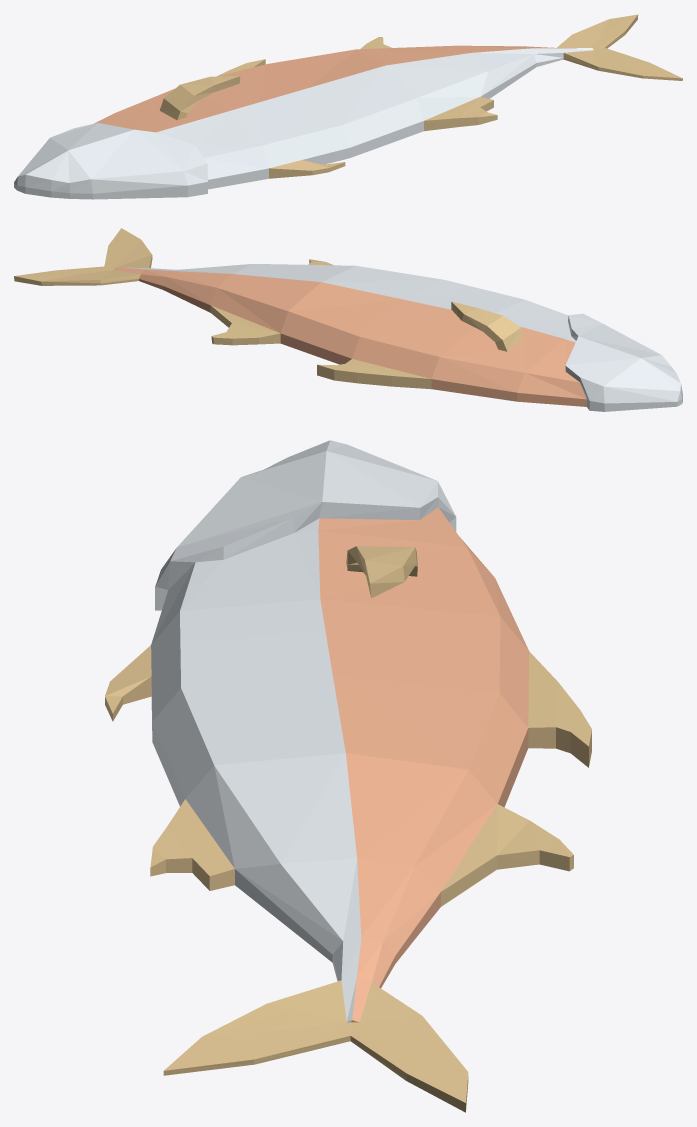
Rendered from Fish.obj.
The picture shows the model from 3 angles, top to bottom: view 1: azimuth 30°, elevation 25°; view 2: azimuth 150°, elevation 25°; view 3: azimuth 270°, elevation 25°; orthographic projection. The views are drawn at different scales.
Visible parts, largest first — view 1: Fish_Bottom, Fish_Top, Fish_Fins; view 2: Fish_Top, Fish_Bottom, Fish_Fins; view 3: Fish_Bottom, Fish_Top, Fish_Fins.
Boxes of the visible parts, left/top/right/bottom form: Fish_Bottom: left=14, top=48, right=593, bottom=199; Fish_Top: left=94, top=45, right=576, bottom=132; Fish_Fins: left=159, top=14, right=682, bottom=178; Fish_Top: left=114, top=267, right=586, bottom=406; Fish_Bottom: left=123, top=264, right=682, bottom=411; Fish_Fins: left=14, top=228, right=524, bottom=389; Fish_Bottom: left=151, top=440, right=456, bottom=1022; Fish_Top: left=318, top=507, right=529, bottom=1022; Fish_Fins: left=105, top=546, right=591, bottom=1112.
Size of the model in its own units: 3.2 by 0.303 by 1.06.
